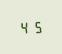five: (31, 19, 42, 33)
four: (19, 20, 30, 34)
